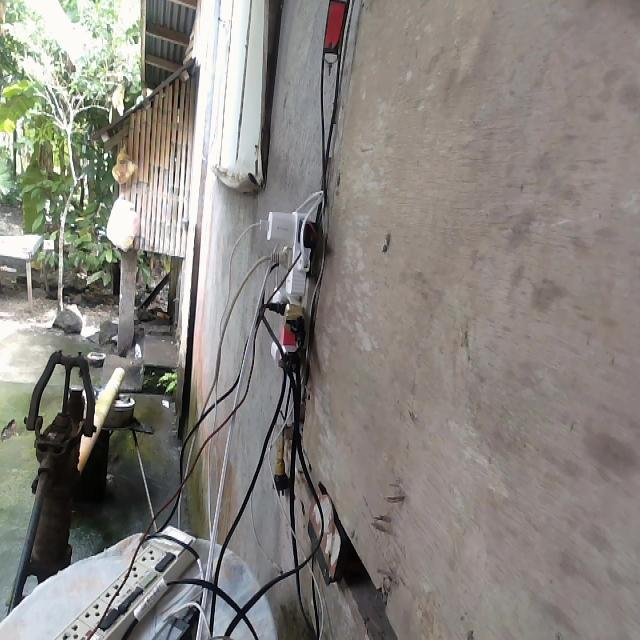-: (253, 201, 326, 372)
